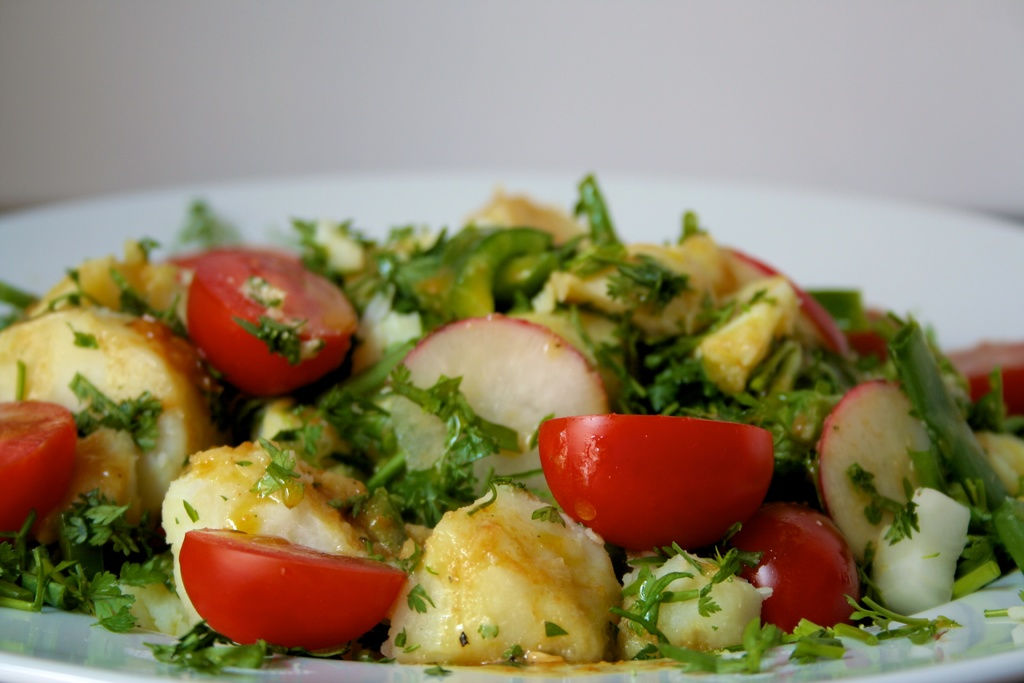Tomato: (537, 414, 772, 549), (178, 527, 407, 647), (186, 249, 354, 395), (725, 504, 861, 631), (0, 400, 80, 533)
